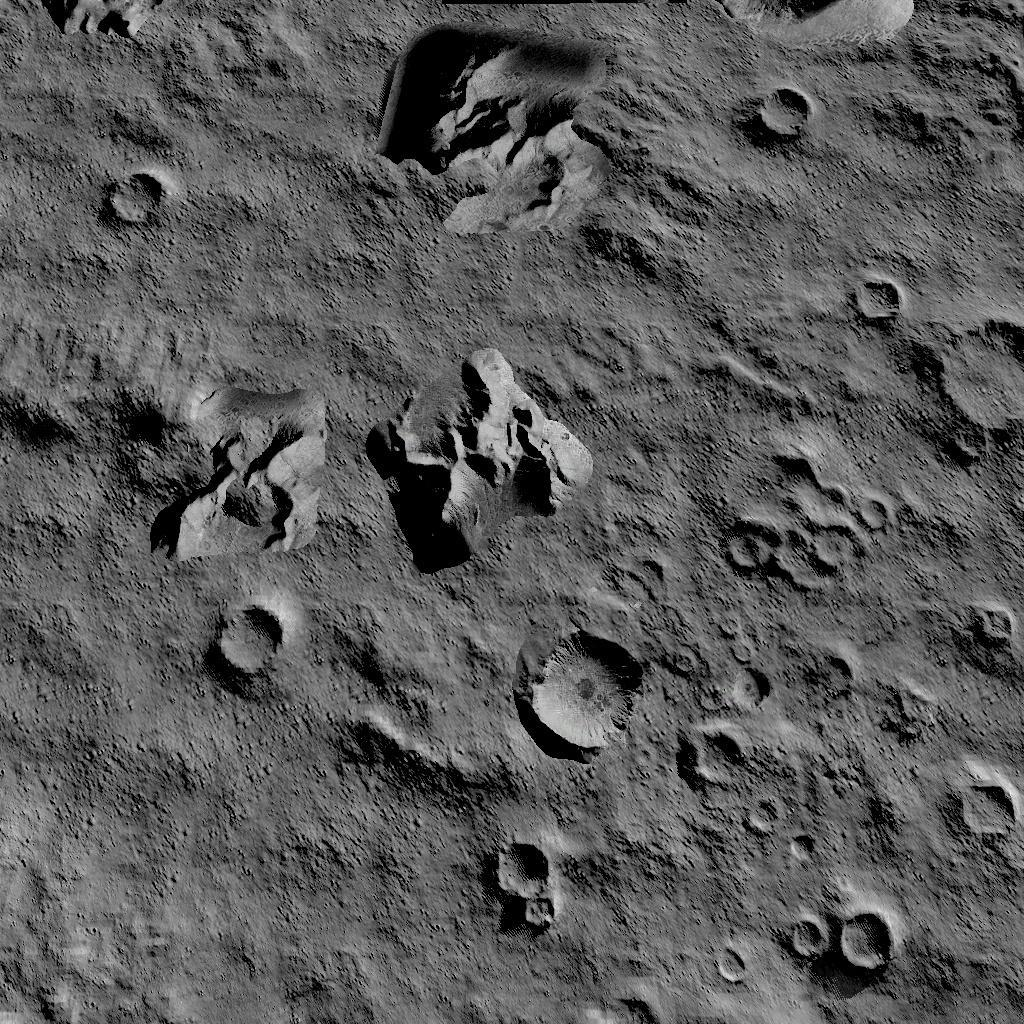Boulders: (374, 22, 708, 286), (0, 320, 326, 560), (368, 350, 590, 570), (876, 0, 1024, 158), (48, 0, 296, 70)
Crater: (728, 450, 898, 593), (520, 632, 646, 756), (936, 318, 1024, 466), (781, 910, 895, 978), (486, 840, 560, 930), (208, 602, 290, 678), (751, 78, 815, 158), (101, 168, 168, 230), (956, 778, 1015, 840), (846, 270, 905, 325)
Plan surface: (1, 572, 198, 1024), (213, 808, 473, 1024), (184, 120, 360, 308), (723, 170, 1024, 260)
